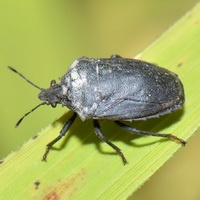insect: (8, 55, 185, 163)
